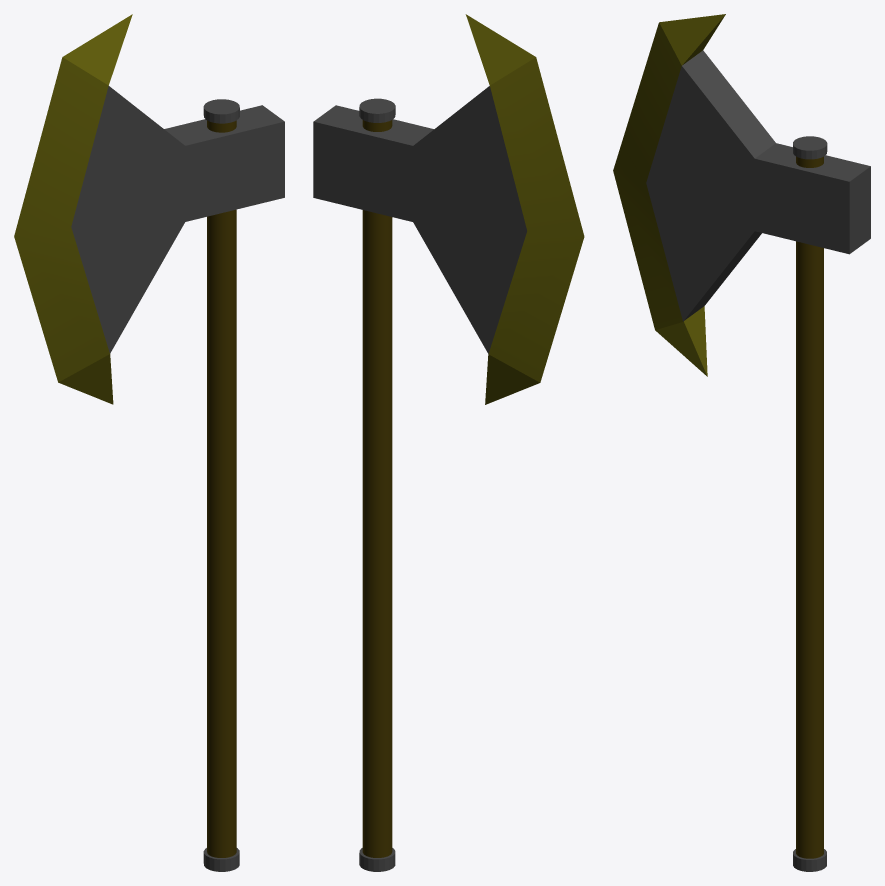
File: Old Axe.fbx
3 views of the same model, side by side, from view 1: azimuth 30°, elevation 25°; view 2: azimuth 150°, elevation 25°; view 3: azimuth 330°, elevation 25° (orthographic). The views are drawn at different scales.
Parts seen in each view (by area): view 1: pCube5, pCylinder7; view 2: pCube5, pCylinder7; view 3: pCube5, pCylinder7.
Part boxes in pixels (left/top/right/bottom): pCube5: left=14, top=14, right=284, bottom=404; pCylinder7: left=203, top=99, right=239, bottom=871; pCube5: left=313, top=14, right=584, bottom=404; pCylinder7: left=359, top=98, right=395, bottom=871; pCube5: left=613, top=14, right=870, bottom=376; pCylinder7: left=793, top=136, right=827, bottom=871.
Size of the model in its own units: 2.61 by 8.37 by 0.3899.
